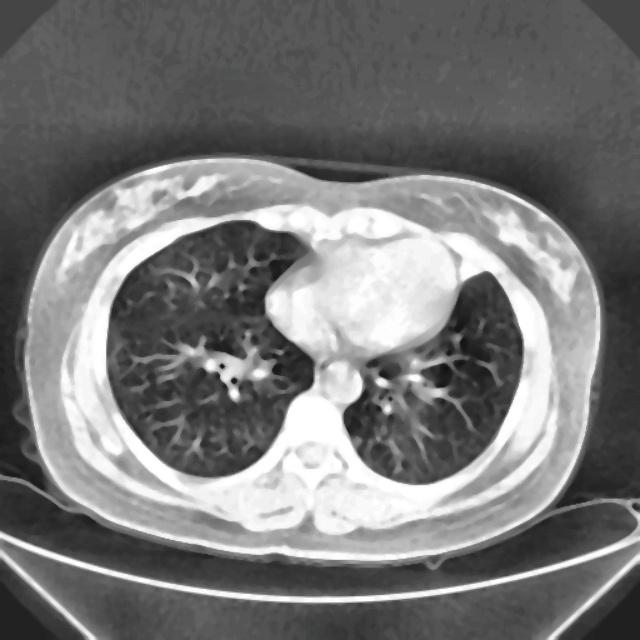covid: (14, 154, 603, 567)
